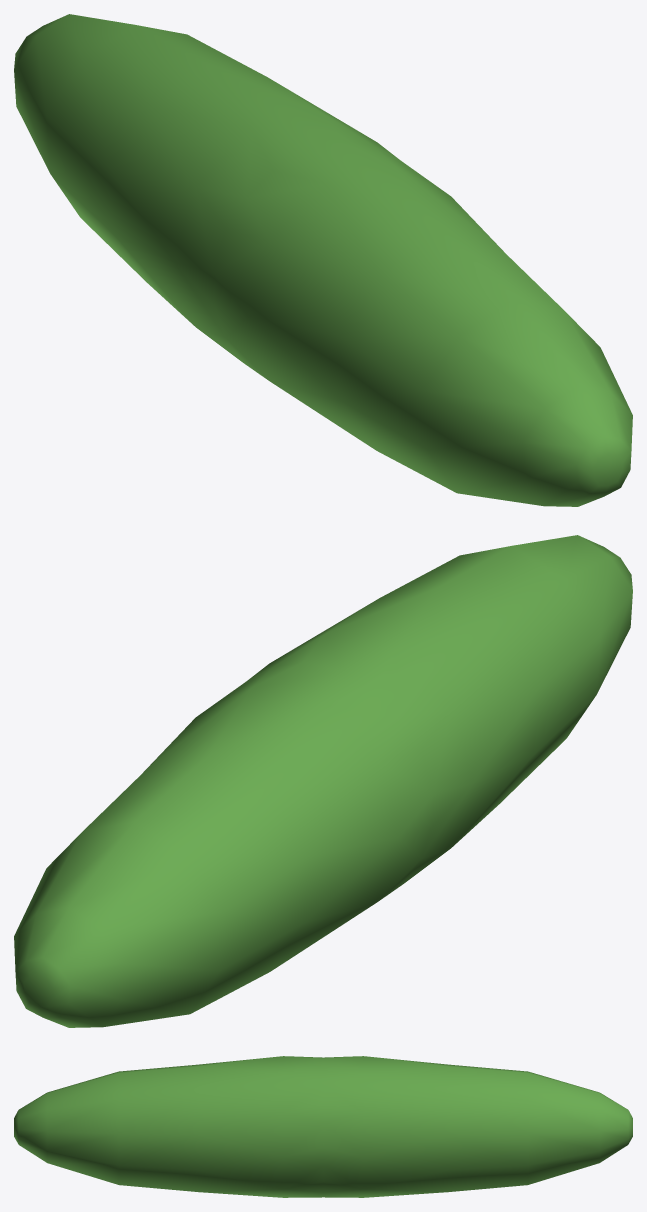
The model's file is Cucumber.fbx.
3 views of the same model, one above another, from view 1: azimuth 30°, elevation 25°; view 2: azimuth 150°, elevation 25°; view 3: azimuth 270°, elevation 25° (orthographic). The views are drawn at different scales.
Parts seen in each view (by area): view 1: Cucumber; view 2: Cucumber; view 3: Cucumber.
Boxes of the visible parts, left/top/right/bottom form: Cucumber: left=14, top=14, right=632, bottom=506; Cucumber: left=14, top=535, right=632, bottom=1027; Cucumber: left=14, top=1056, right=632, bottom=1197.
Size of the model in its own units: 0.0359 by 0.0353 by 0.1577.
